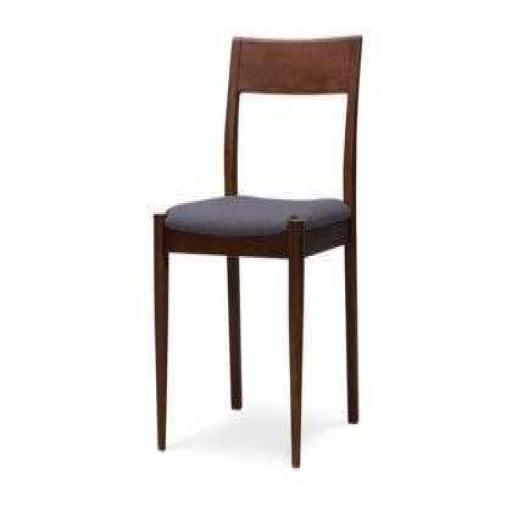chair: (149, 30, 369, 475)
